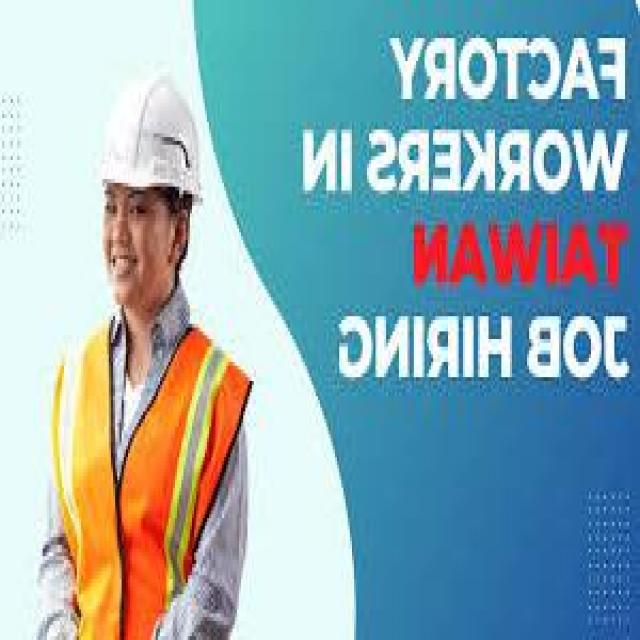Reflective-Jacket: (47, 320, 252, 640)
Safety-Helmet: (94, 68, 205, 210)
